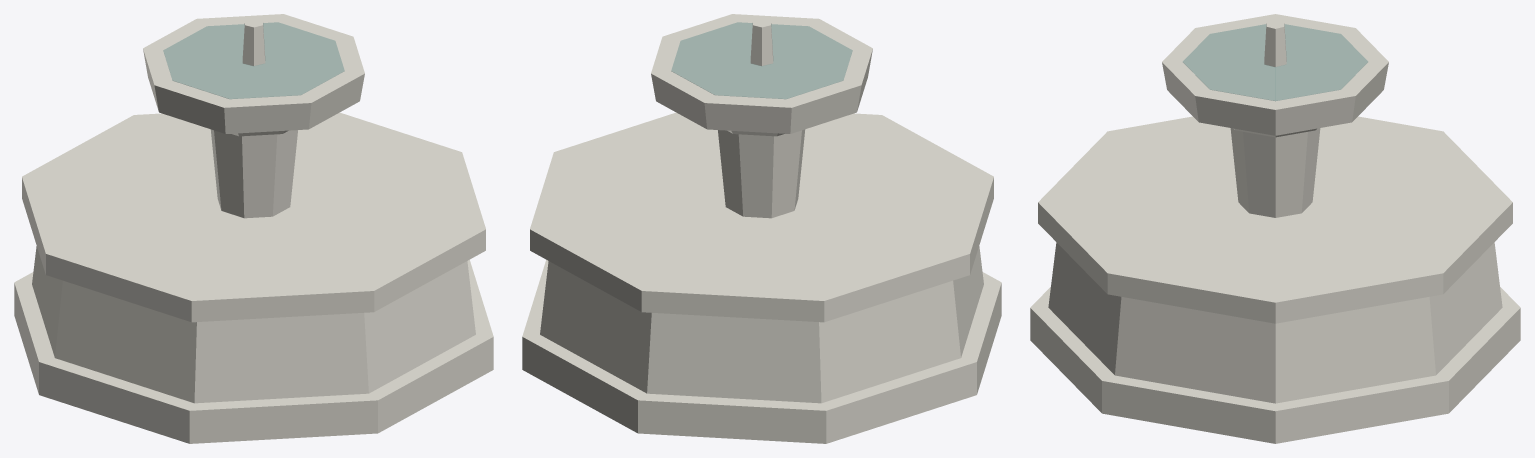
Rendered from botanical-glasshouse-and-palm-house-botanical-glasshou-470c6c8f__38560.glb.
The picture shows the model from 3 angles, left to right: view 1: azimuth 30°, elevation 25°; view 2: azimuth 150°, elevation 25°; view 3: azimuth 270°, elevation 25°; orthographic projection.
Parts seen in each view (by area): view 1: botanical-glasshouse-and-palm-house-fountain-basin; view 2: botanical-glasshouse-and-palm-house-fountain-basin; view 3: botanical-glasshouse-and-palm-house-fountain-basin.
Boxes of the visible parts, x1,y1,x2,y2 form: botanical-glasshouse-and-palm-house-fountain-basin: [14, 14, 493, 443]; botanical-glasshouse-and-palm-house-fountain-basin: [522, 14, 1001, 443]; botanical-glasshouse-and-palm-house-fountain-basin: [1030, 14, 1520, 443].
Bounding box in the file's own units: 1.9 × 1.35 × 1.9.
